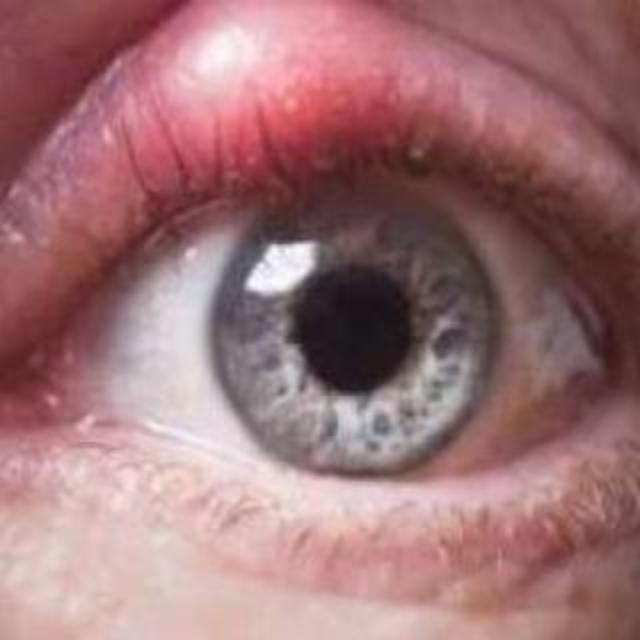Stye: (99, 0, 482, 297)
